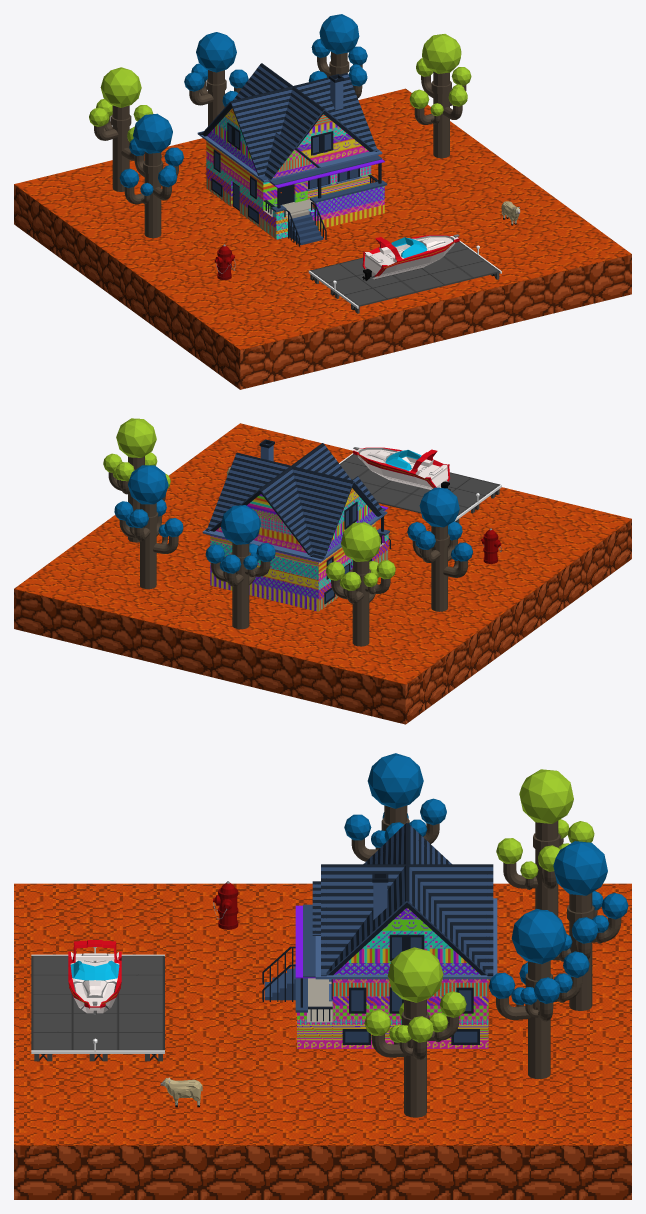
3 renders of one model, top to bottom at view 1: azimuth 30°, elevation 25°; view 2: azimuth 150°, elevation 25°; view 3: azimuth 270°, elevation 25°, orthographic. The views are drawn at different scales.
Visible parts, largest first — view 1: Cube.001, Cube.676, VEHICLES_BOAT, OBJRANDOM_FIRE_HYDRANT; view 2: Cube.001, Cube.676, VEHICLES_BOAT, OBJRANDOM_FIRE_HYDRANT; view 3: Cube.001, Cube.676, VEHICLES_BOAT, OBJRANDOM_FIRE_HYDRANT, ANIMAL_OVEJA.
Boxes of the visible parts, box(x1,y1,x2,y2) form: Cube.001: box(14, 14, 631, 389); Cube.676: box(197, 63, 387, 246); VEHICLES_BOAT: box(362, 234, 459, 280); OBJRANDOM_FIRE_HYDRANT: box(214, 244, 235, 279); Cube.001: box(14, 418, 631, 724); Cube.676: box(202, 439, 390, 611); VEHICLES_BOAT: box(353, 447, 450, 490); OBJRANDOM_FIRE_HYDRANT: box(481, 528, 501, 563); Cube.001: box(14, 753, 631, 1199); Cube.676: box(262, 823, 497, 1048); VEHICLES_BOAT: box(68, 940, 121, 1014); OBJRANDOM_FIRE_HYDRANT: box(213, 881, 238, 929); ANIMAL_OVEJA: box(160, 1077, 202, 1107).
Size of the model in its own units: 4000 by 1765 by 4000.
Materials: 33 (8 with a texture image).
